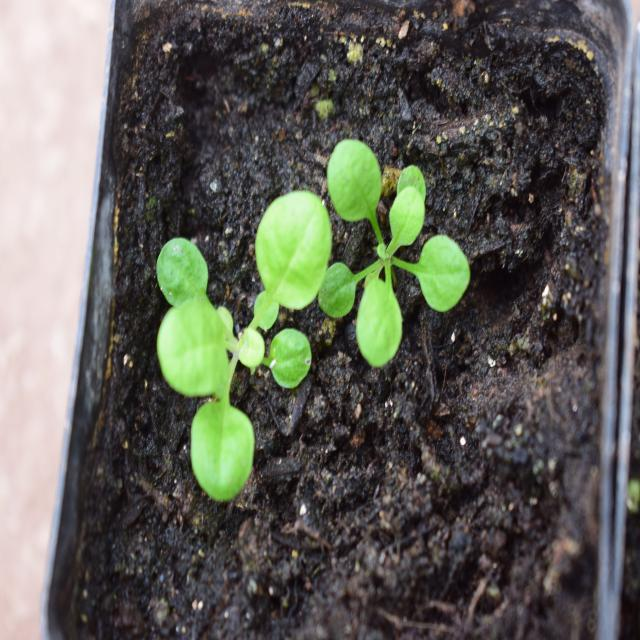Shepherd_Purse: (149, 207, 326, 501), (316, 133, 463, 352)
